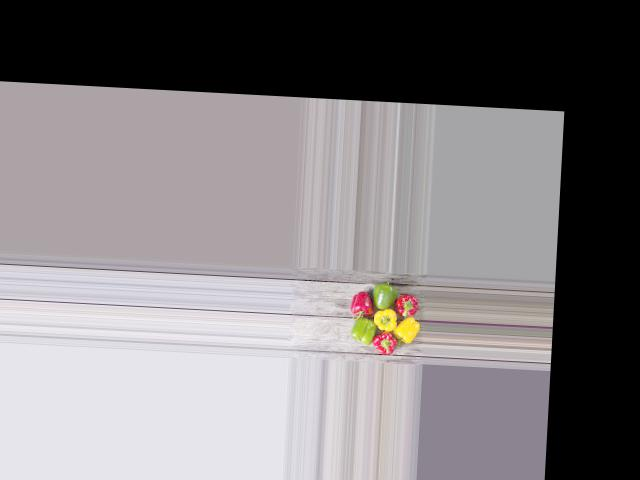bell_pepper: (394, 293, 424, 322)
